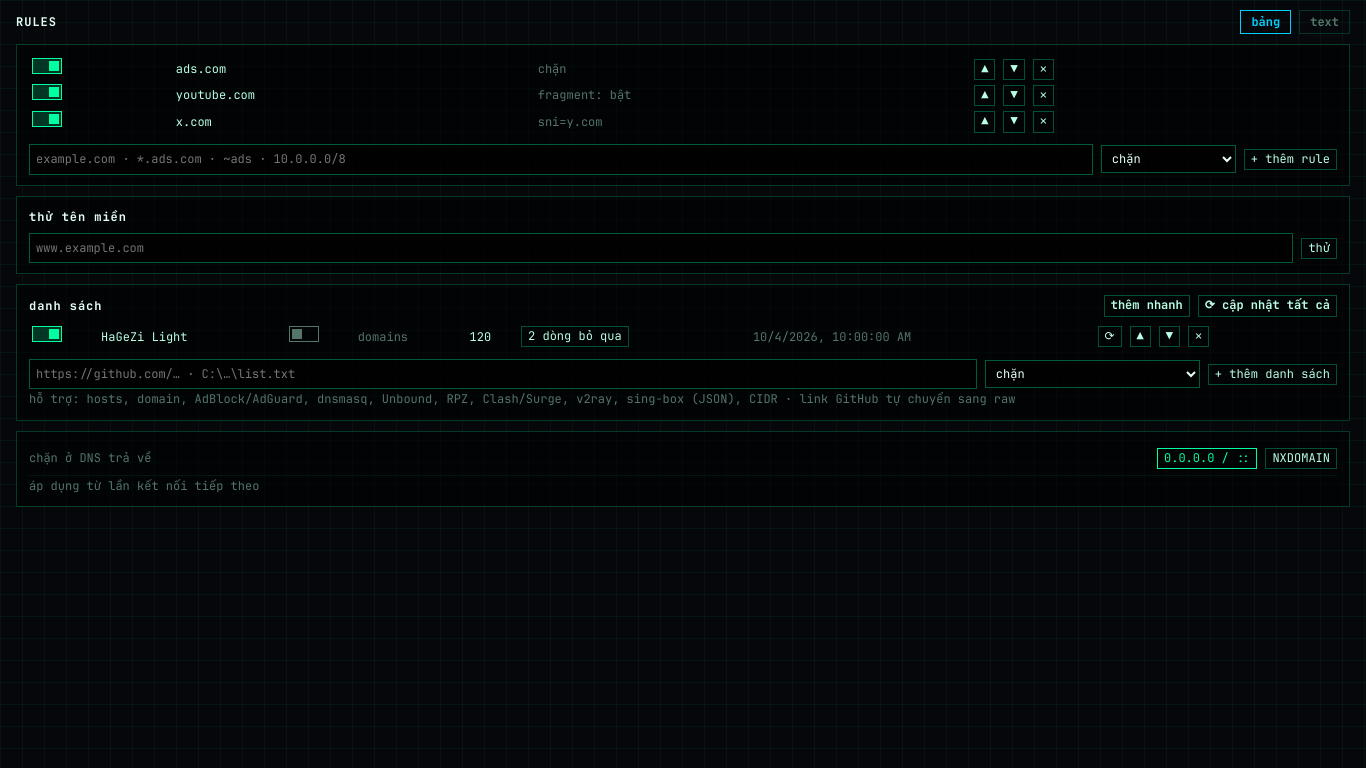
Test: domain tester explains the decision
The image size is (1366, 768).
Expected: the text "ads.com" is shown, [175,57,535,81]
Type "x.ads.com" into the field named "thử tên miền" at [661, 248], box [29,233,1293,263]
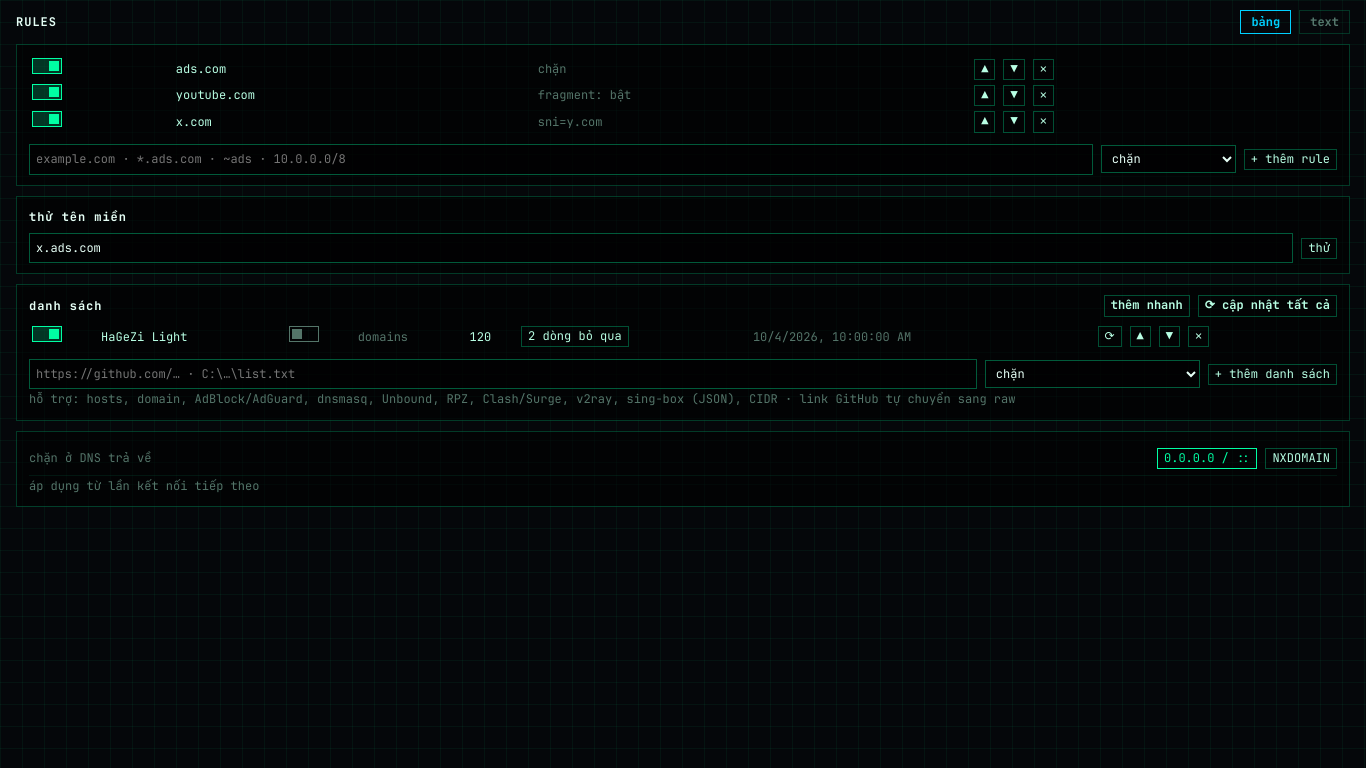
Click the button "thử" at [1319, 248], box [1301,238,1337,259]
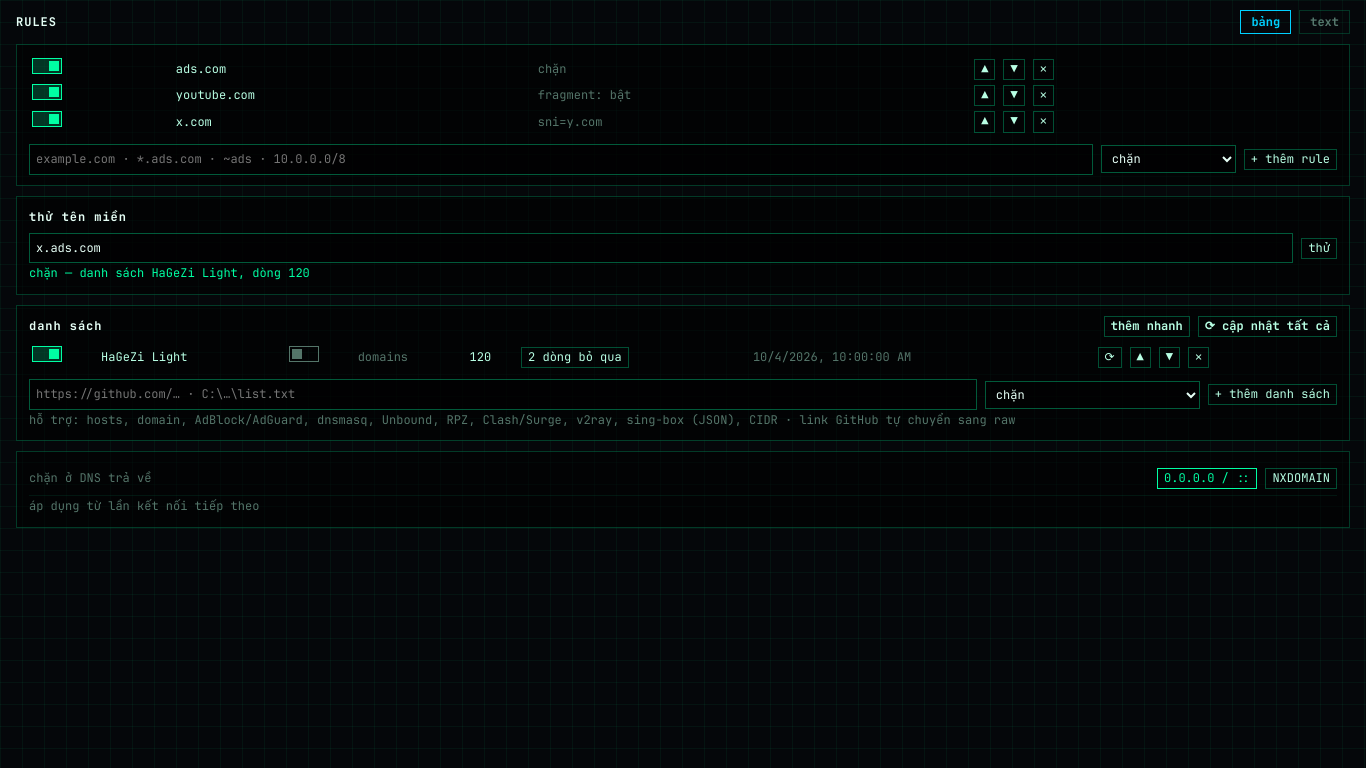
Expected: the text "chặn — danh sách HaGeZi Light, dòng 120" is shown, [29,265,310,281]
